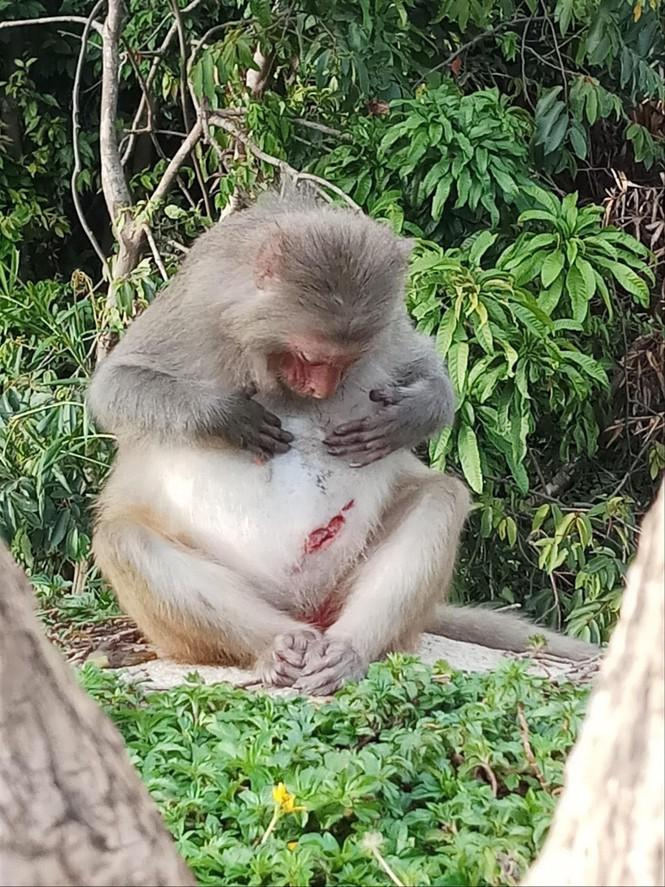cut: (262, 462, 380, 597)
